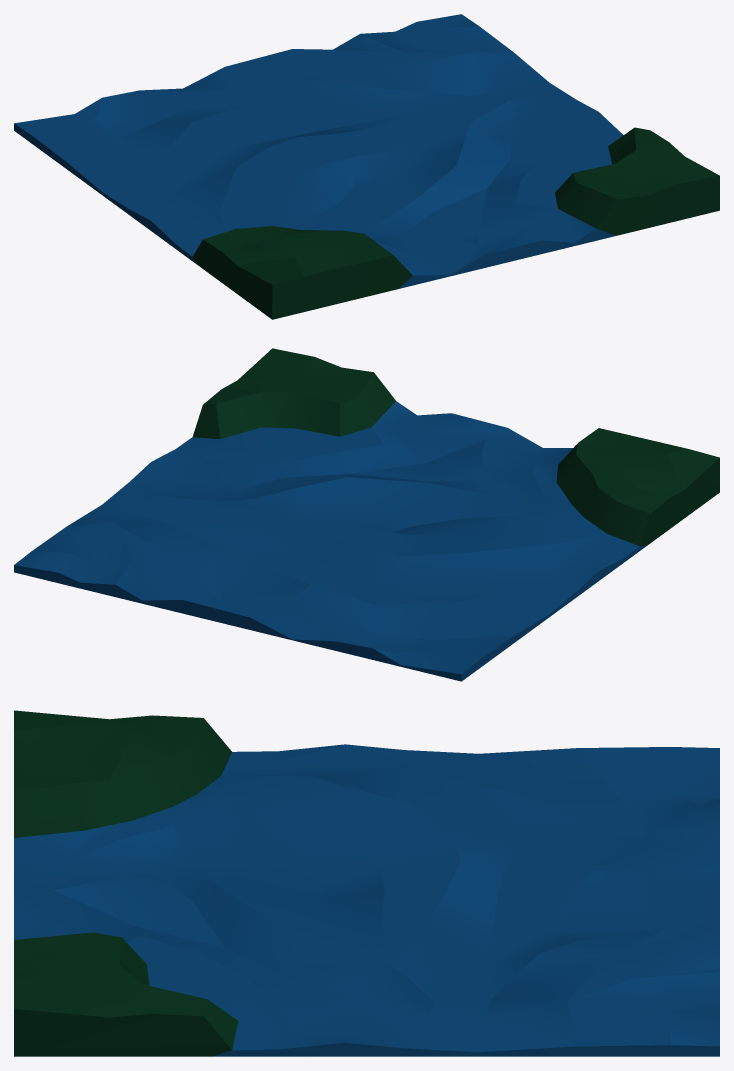
File: Water_River_Entrance_B.fbx
The picture shows the model from 3 angles, top to bottom: view 1: azimuth 30°, elevation 25°; view 2: azimuth 150°, elevation 25°; view 3: azimuth 270°, elevation 25°; orthographic projection. The views are drawn at different scales.
Parts seen in each view (by area): view 1: Water_River_Entrance_B; view 2: Water_River_Entrance_B; view 3: Water_River_Entrance_B.
Part boxes in pixels (box(x1,y1,x2,y2)): Water_River_Entrance_B: box(14, 14, 719, 319); Water_River_Entrance_B: box(14, 348, 719, 681); Water_River_Entrance_B: box(14, 710, 719, 1056).
Size of the model in its own units: 147 by 13.25 by 147.
